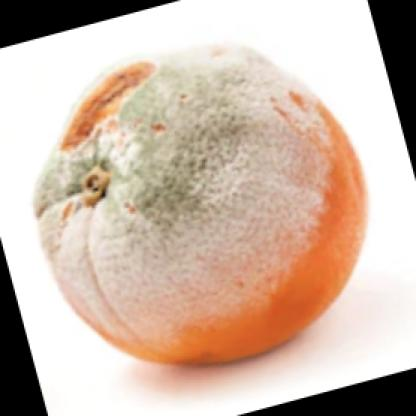rotten: (38, 48, 366, 368)
